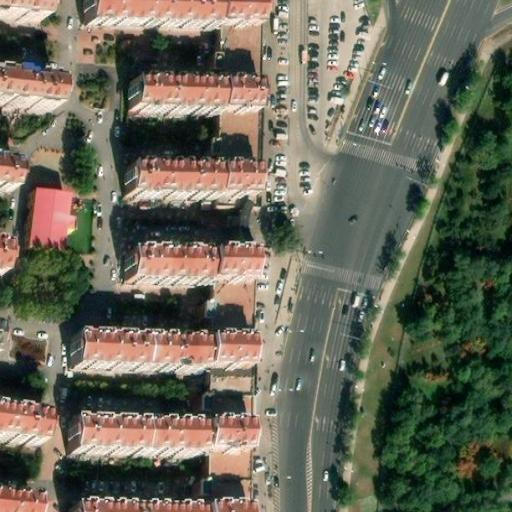building: (201, 252, 259, 512), (218, 0, 263, 193), (69, 419, 204, 456), (77, 336, 205, 371), (132, 82, 256, 114), (132, 165, 258, 196), (86, 0, 218, 25), (30, 189, 76, 253), (130, 251, 208, 284), (0, 71, 59, 110), (0, 327, 51, 366), (0, 406, 48, 445), (202, 424, 247, 457), (204, 339, 247, 372), (207, 251, 251, 283), (0, 487, 44, 512), (218, 0, 260, 26), (71, 504, 204, 512), (0, 232, 16, 271), (0, 155, 18, 189), (204, 508, 245, 512), (218, 195, 232, 206)
